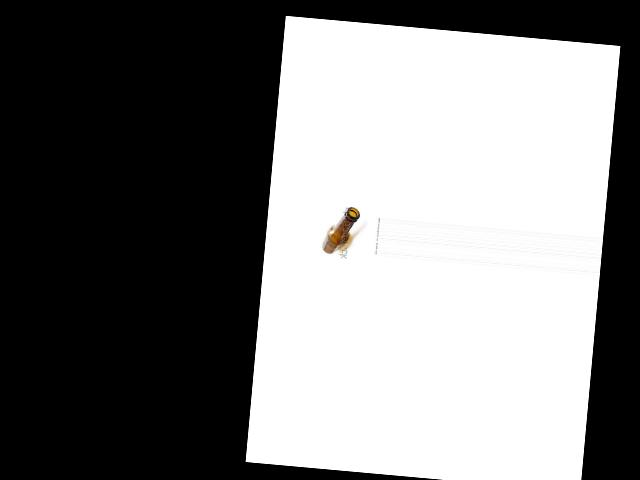beer: (321, 205, 361, 256)
